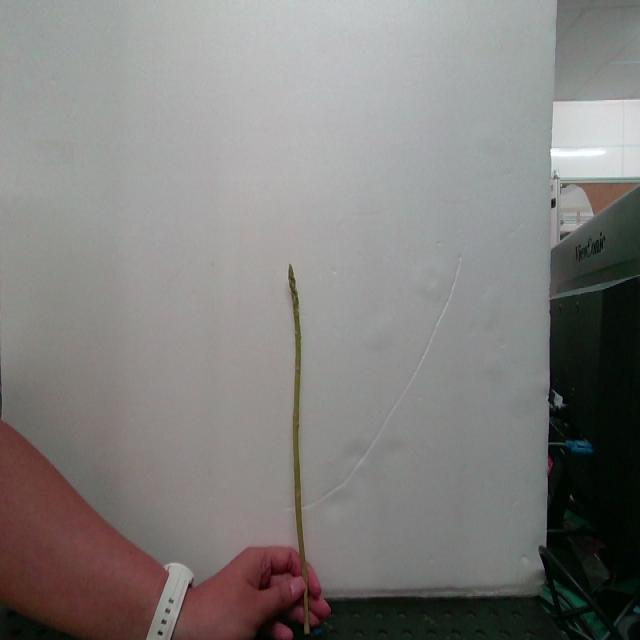aspargus: (289, 267, 312, 584)
